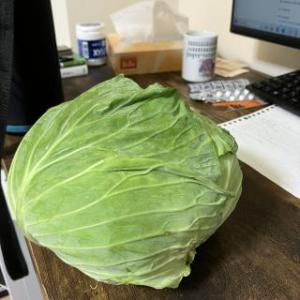cabbage: (5, 72, 243, 294)
